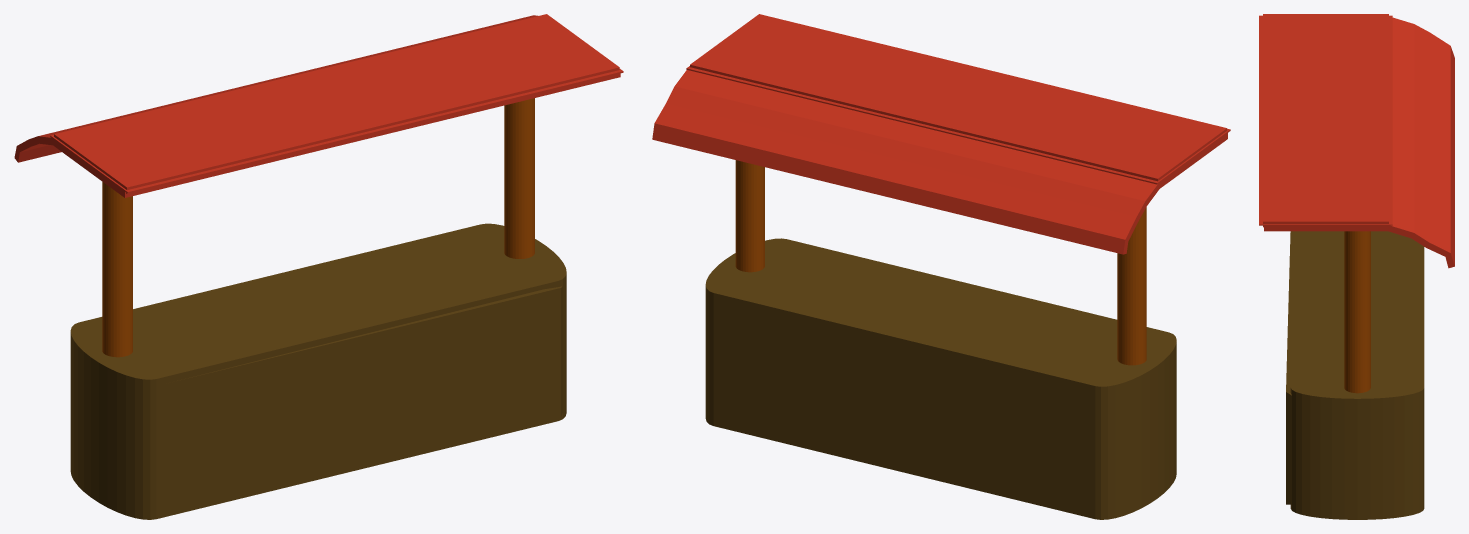
Rendered from Shop.fbx.
3 renders of one model, left to right at view 1: azimuth 30°, elevation 25°; view 2: azimuth 150°, elevation 25°; view 3: azimuth 270°, elevation 25°, orthographic. The views are drawn at different scales.
Parts seen in each view (by area): view 1: Cylinder.001; view 2: Cylinder.001; view 3: Cylinder.001.
Part boxes in pixels (x1,y1,x2,y2): Cylinder.001: [14, 14, 623, 519]; Cylinder.001: [652, 14, 1230, 519]; Cylinder.001: [1259, 14, 1454, 519].
Size of the model in its own units: 740 by 506 by 293.
